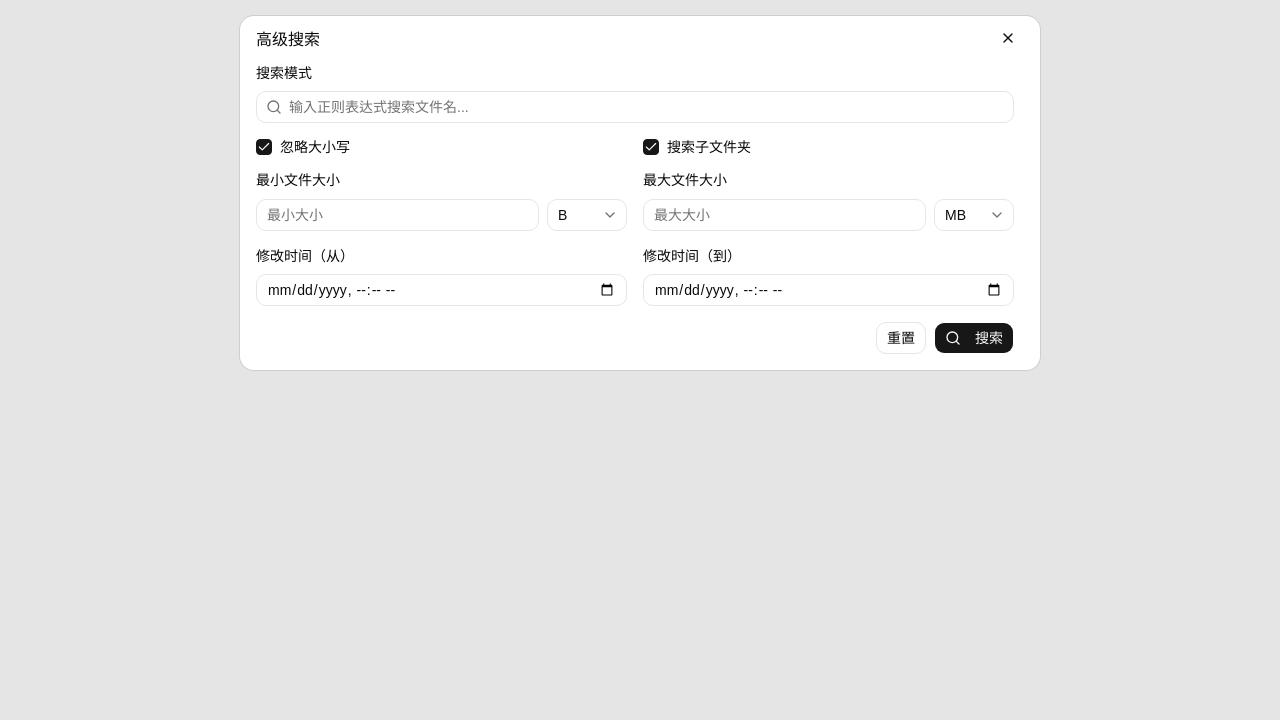
Test: navigates a file result with its current directory and search identity
The width and height of the screenshot is (1280, 720).
In the field labelled "搜索模式": {"x": 635, "y": 107} [256,91,1014,123], type "config|toml"
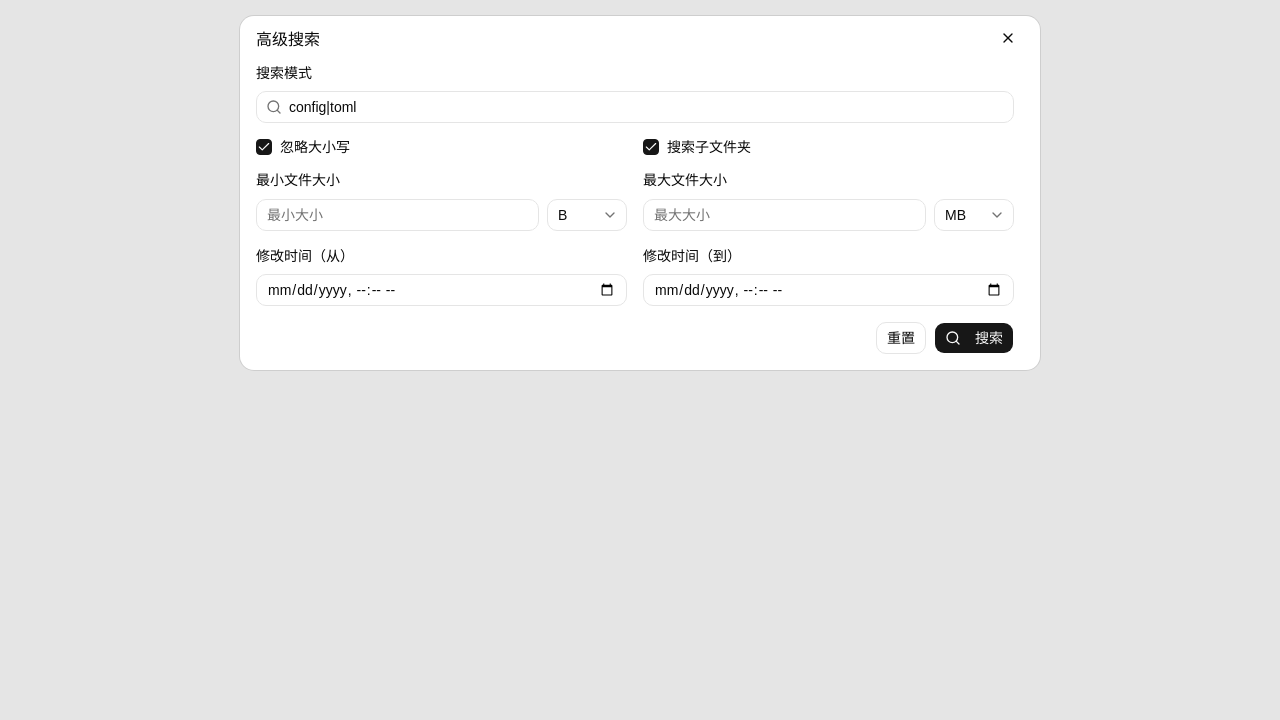
Click the button "搜索": {"x": 974, "y": 338} [934,322,1014,354]
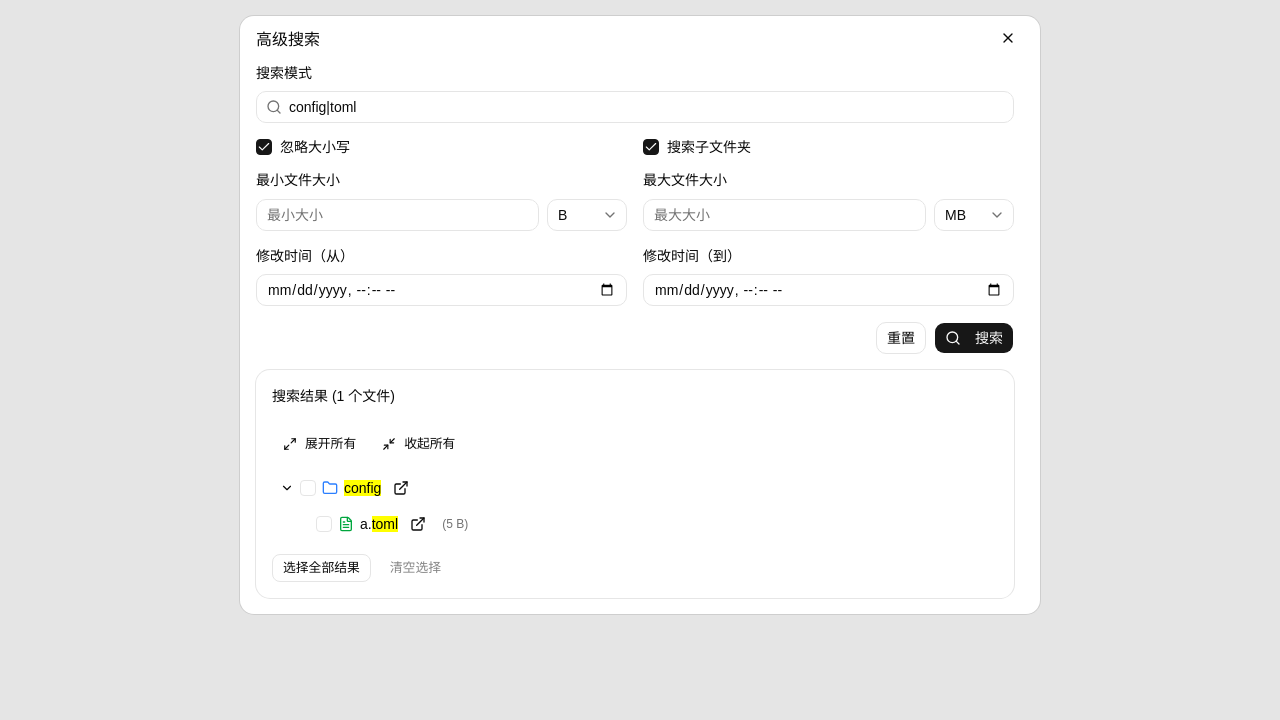
Check: the text "搜索结果 (1 个文件)" is shown, box [272,388,395,404]
Replace the text in the field labelled "搜索模式" with "unsubmitted draft": {"x": 635, "y": 107} [256,91,1014,123]
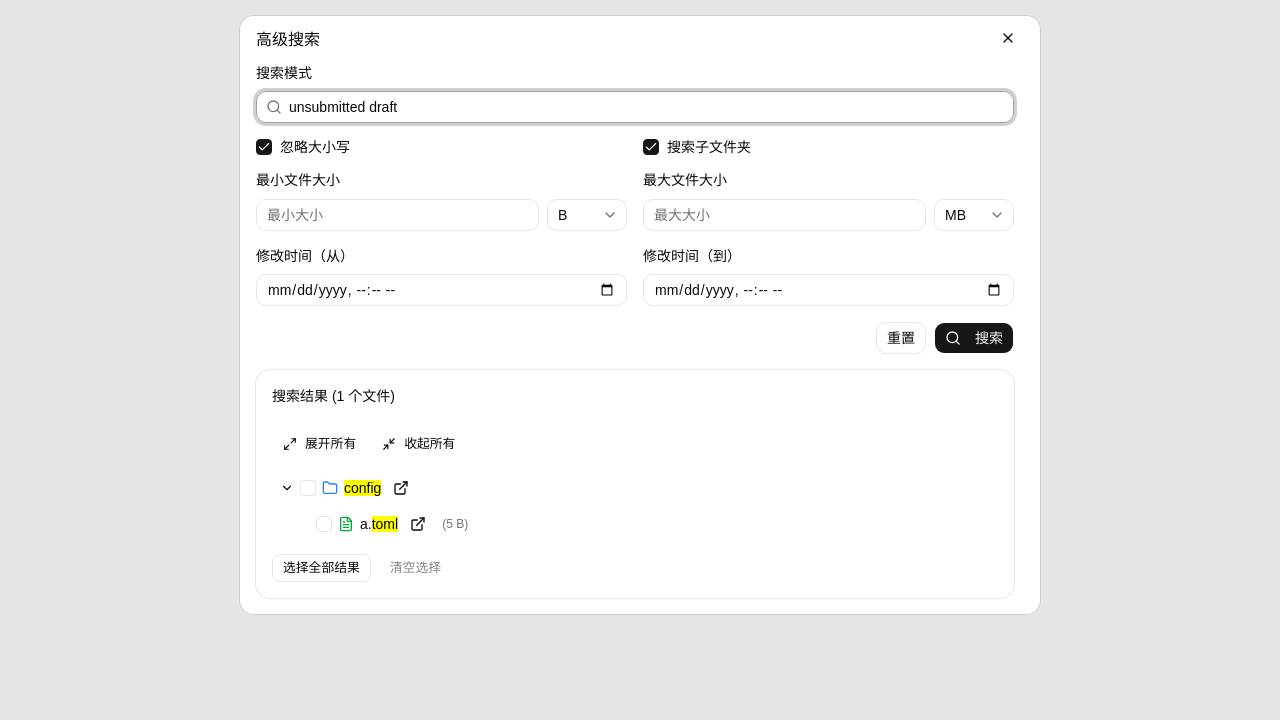
Check: the element showing "a.toml" is shown
Click the link "a.toml": {"x": 379, "y": 524} [360,514,398,534]
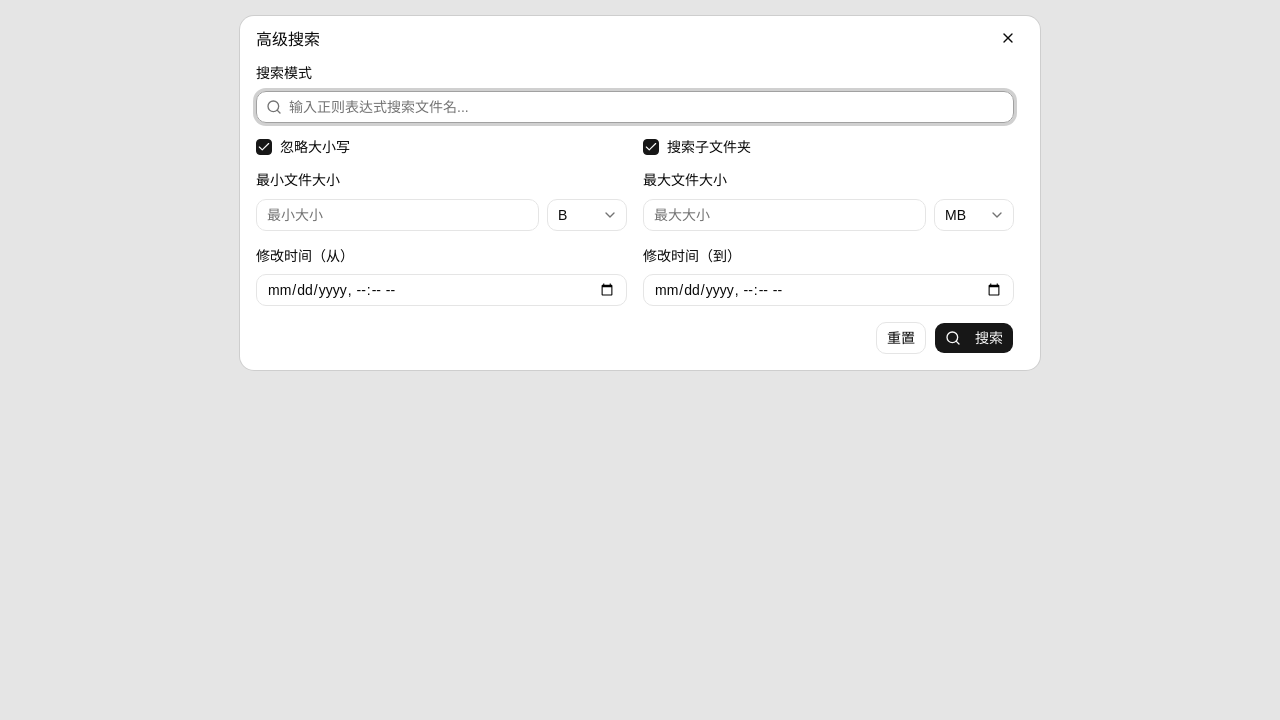
Check: the text "搜索结果 (1 个文件)" is gone
